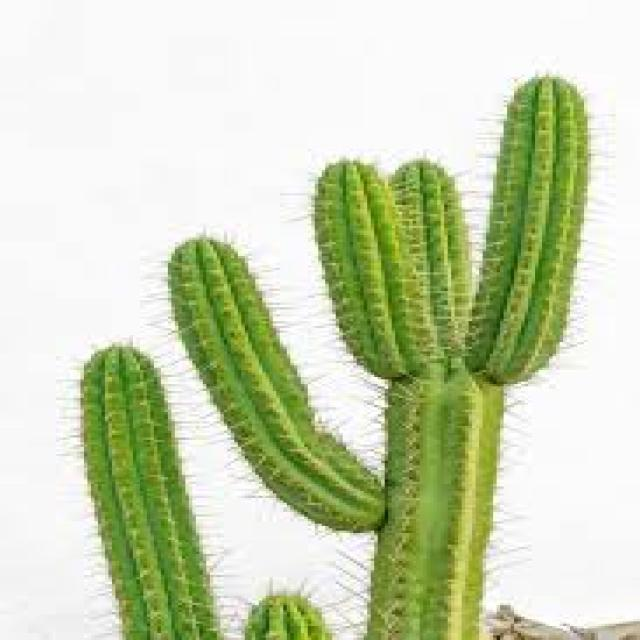cactus: (48, 53, 594, 640)
